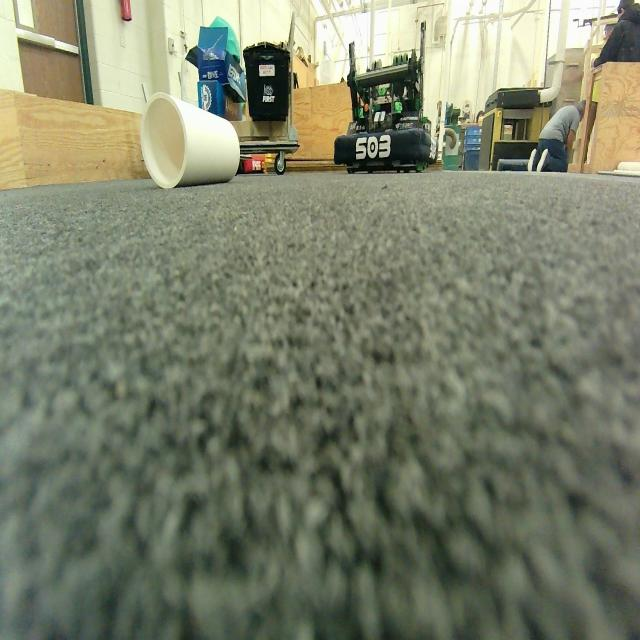coral: (138, 83, 252, 195)
